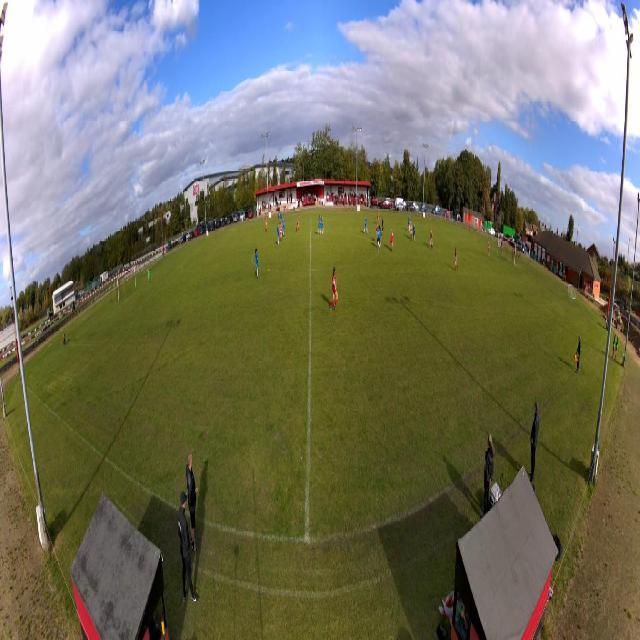ball: (379, 243, 380, 248)
player: (330, 265, 339, 309), (255, 249, 259, 279), (319, 214, 324, 236), (454, 247, 458, 272), (363, 216, 368, 236), (377, 226, 381, 248), (282, 216, 286, 236), (277, 223, 280, 247), (296, 213, 300, 231), (280, 221, 283, 242), (390, 230, 393, 251), (381, 217, 384, 237), (409, 221, 412, 240), (147, 267, 150, 285), (488, 241, 491, 258), (408, 215, 411, 232), (265, 217, 268, 233), (377, 210, 380, 225), (430, 228, 432, 249), (376, 225, 379, 239), (413, 223, 415, 241), (280, 212, 283, 223), (430, 231, 431, 247)
